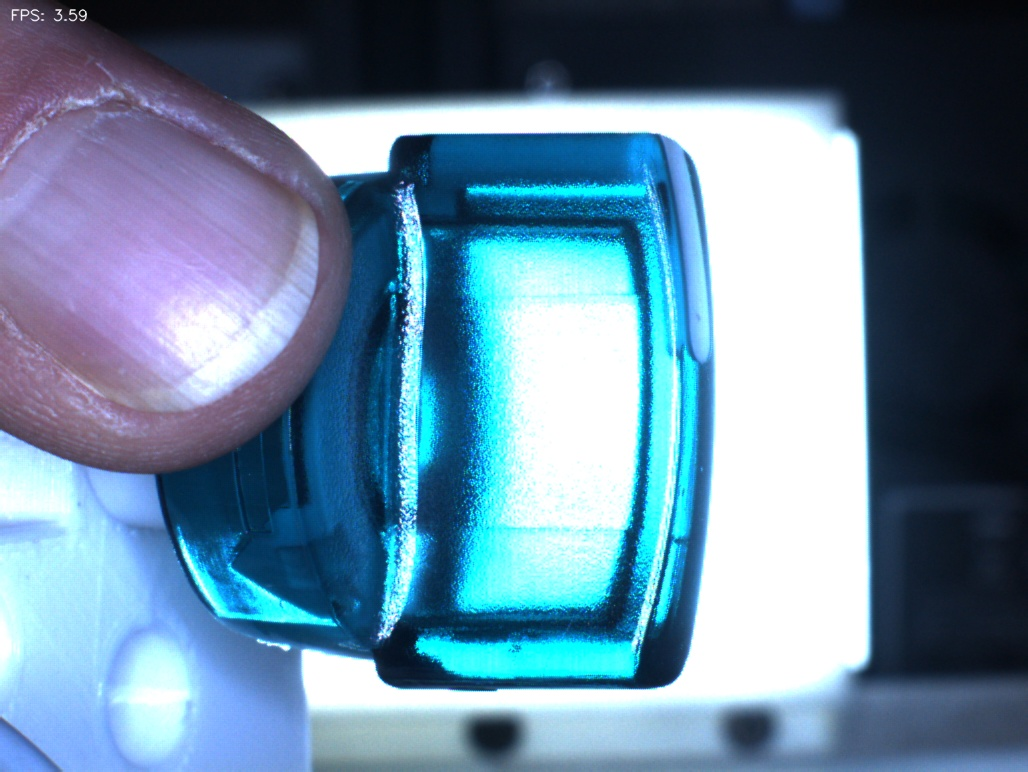Bulle: (475, 588, 546, 677)
